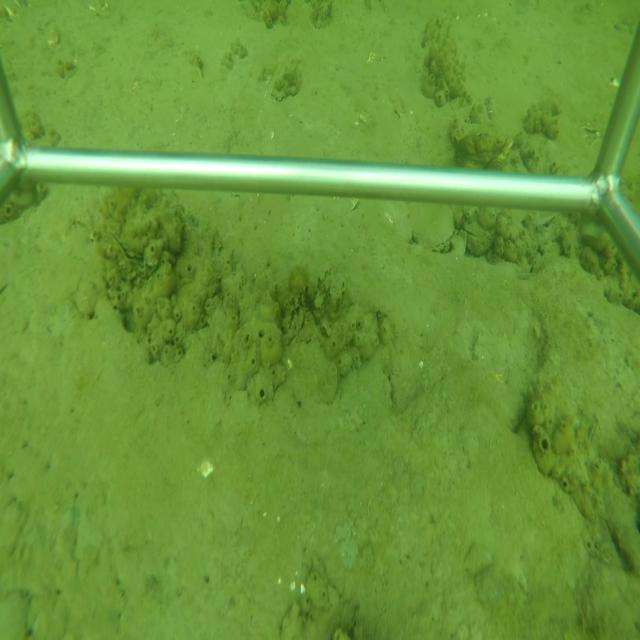Oyster-Closed: (101, 225, 150, 269)
